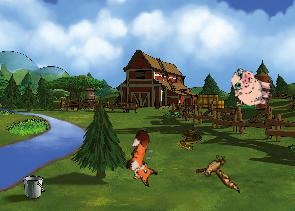eagle: (193, 151, 244, 193)
fox: (119, 128, 169, 188)
pig: (228, 66, 275, 110)
